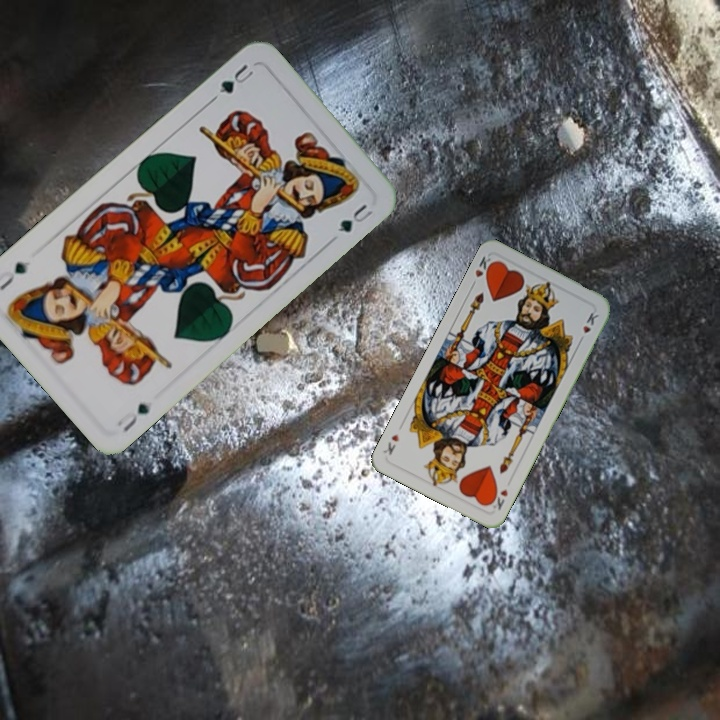GU: (208, 60, 257, 103), (113, 399, 153, 436)
HK: (467, 252, 498, 290), (486, 485, 510, 513)
